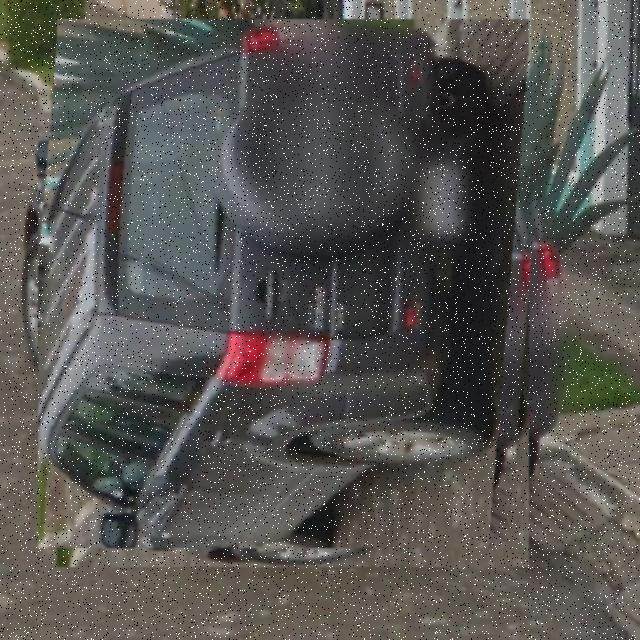car: (39, 39, 550, 549)
